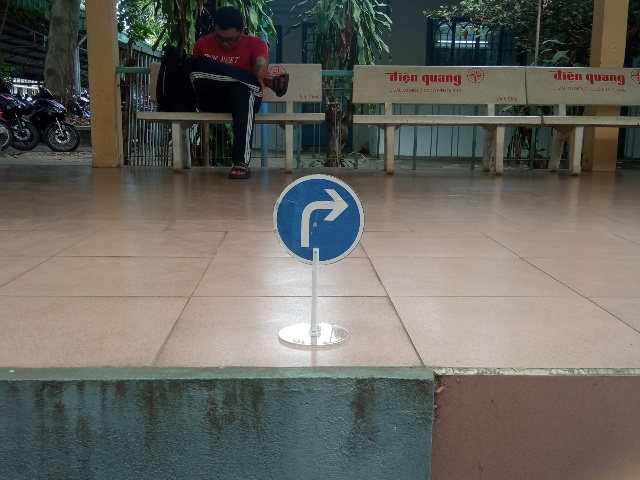Right_Sign: (271, 175, 365, 265)
